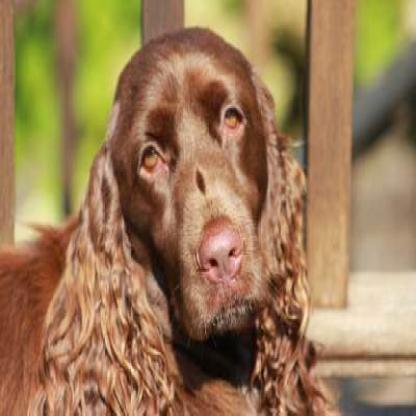Field Spaniel: (4, 19, 328, 414)
